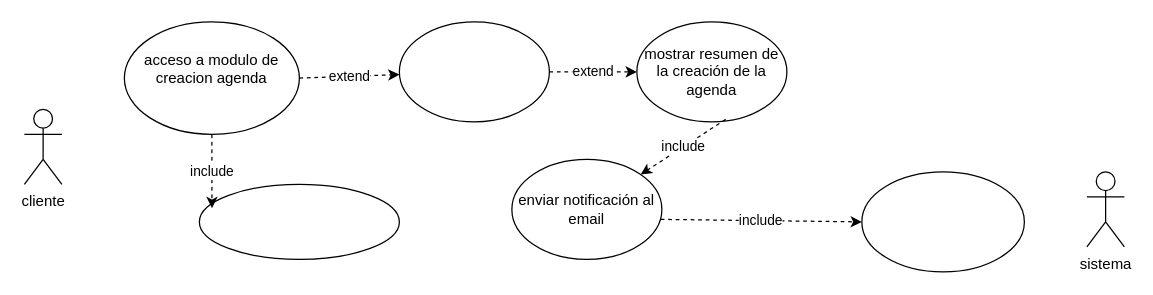
Image size: 1153x295. Some labels were removed from this diagram. Each missing label, with the centre of its shape:
"guardar reserva en el sistema" belongs at [942,221].
"ingresar datos de agenda" belongs at [473,71].
"validar agenda creada" belongs at [298,221].
